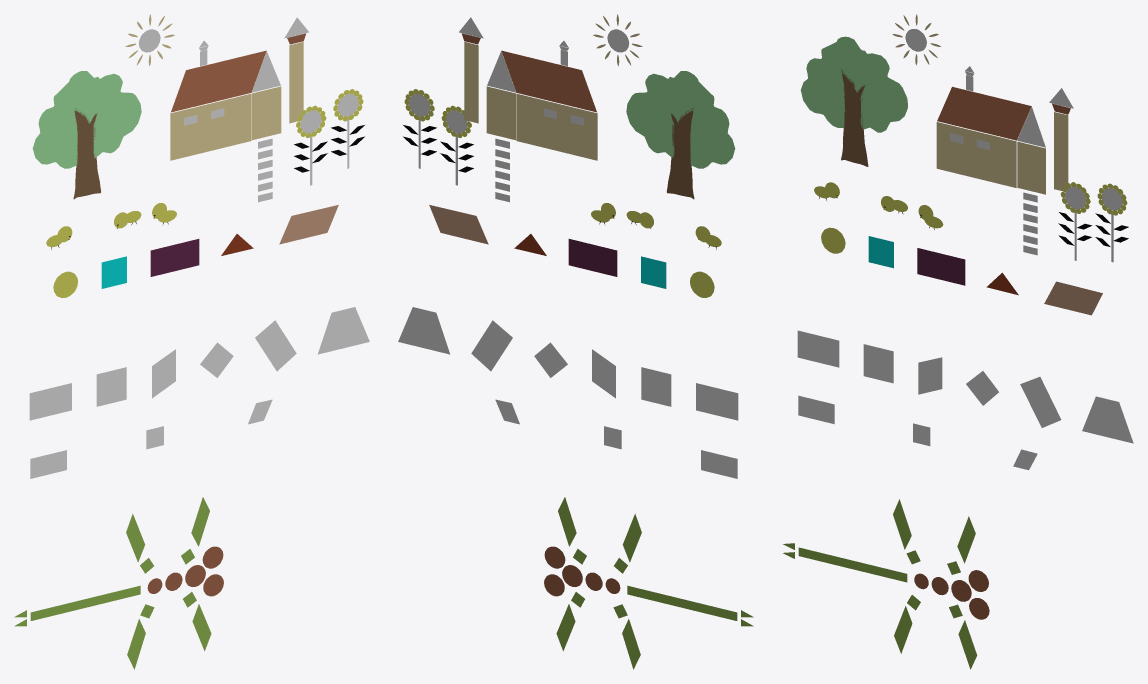
3 views of the same model, side by side, from view 1: azimuth 30°, elevation 25°; view 2: azimuth 150°, elevation 25°; view 3: azimuth 330°, elevation 25° (orthographic).
Visible parts, largest first — view 1: planarTrimmedSurface1rebuiltSurface1, polySurface2, polySurface1, planarTrimmedSurface2rebuiltSurface1, polySurface30, polySurface4, polySurface23, polySurface26, nurbsPlane1rebuiltSurface1, polySurface10, polySurface29, nurbsPlane9rebuiltSurface1 (+6 smaller); view 2: planarTrimmedSurface1rebuiltSurface1, polySurface2, polySurface1, planarTrimmedSurface2rebuiltSurface1, polySurface30, polySurface4, polySurface23, polySurface26, nurbsPlane1rebuiltSurface1, polySurface10, polySurface29, nurbsPlane9rebuiltSurface1 (+6 smaller); view 3: planarTrimmedSurface1rebuiltSurface1, polySurface2, polySurface1, planarTrimmedSurface2rebuiltSurface1, polySurface30, polySurface4, polySurface23, polySurface26, nurbsPlane1rebuiltSurface1, polySurface10, polySurface29, nurbsPlane9rebuiltSurface1 (+6 smaller).
Part boxes in pixels (left/top/right/bottom): planarTrimmedSurface1rebuiltSurface1: left=32, top=71, right=141, bottom=168; polySurface2: left=170, top=93, right=251, bottom=160; polySurface1: left=171, top=50, right=266, bottom=112; planarTrimmedSurface2rebuiltSurface1: left=73, top=108, right=101, bottom=199; polySurface30: left=317, top=307, right=369, bottom=354; polySurface4: left=252, top=86, right=281, bottom=140; polySurface23: left=150, top=239, right=199, bottom=276; polySurface26: left=279, top=205, right=338, bottom=244; nurbsPlane1rebuiltSurface1: left=29, top=383, right=71, bottom=420; polySurface10: left=289, top=41, right=303, bottom=123; polySurface29: left=255, top=320, right=296, bottom=371; nurbsPlane9rebuiltSurface1: left=30, top=585, right=140, bottom=620; planarTrimmedSurface1rebuiltSurface1: left=626, top=71, right=735, bottom=168; polySurface2: left=516, top=93, right=597, bottom=160; polySurface1: left=501, top=50, right=596, bottom=112; planarTrimmedSurface2rebuiltSurface1: left=666, top=107, right=694, bottom=199; polySurface30: left=398, top=307, right=450, bottom=354; polySurface4: left=486, top=86, right=515, bottom=140; polySurface23: left=568, top=239, right=617, bottom=276; polySurface26: left=429, top=205, right=488, bottom=244; nurbsPlane1rebuiltSurface1: left=696, top=383, right=738, bottom=420; polySurface10: left=464, top=41, right=478, bottom=123; polySurface29: left=471, top=320, right=512, bottom=371; nurbsPlane9rebuiltSurface1: left=627, top=585, right=737, bottom=620; planarTrimmedSurface1rebuiltSurface1: left=800, top=36, right=907, bottom=132; polySurface2: left=936, top=122, right=1016, bottom=187; polySurface1: left=937, top=86, right=1031, bottom=140; planarTrimmedSurface2rebuiltSurface1: left=841, top=69, right=868, bottom=166; polySurface30: left=1082, top=396, right=1133, bottom=443; polySurface4: left=1017, top=141, right=1045, bottom=194; polySurface23: left=917, top=248, right=965, bottom=285; polySurface26: left=1044, top=281, right=1102, bottom=315; nurbsPlane1rebuiltSurface1: left=797, top=330, right=839, bottom=367; polySurface10: left=1054, top=112, right=1068, bottom=191; polySurface29: left=1020, top=377, right=1061, bottom=427; nurbsPlane9rebuiltSurface1: left=798, top=547, right=907, bottom=582.
Size of the model in its own units: 1196 by 2094 by 0.001.
